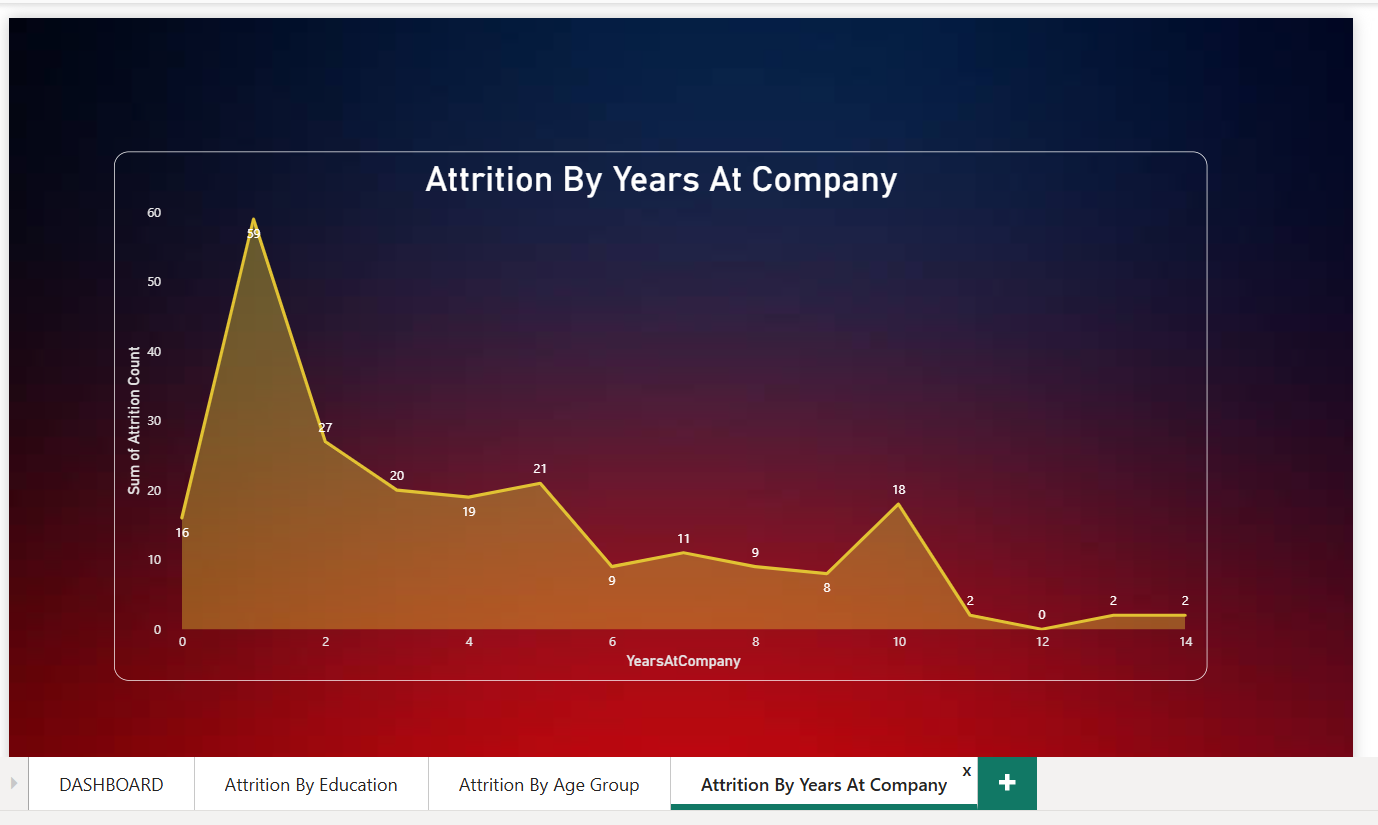

This screenshot's page, from the dashboard's own definition file:
{"tool":"powerbi","page":{"name":"Attrition By Years At Company","canvas":[1280,720],"ordinal":3},"visuals":[{"type":"areaChart","title":"Attrition By Years At Company","fields":{"Category":["HR_Analytics.YearsAtCompany"],"Y":["Sum(HR_Analytics.Attrition Count)"]},"box":[100,127.1,1041.4,504.3],"z":0}]}

Visuals, with their boxes on the page's 1280x720 design canvas (x1, y1, x2, y2). These are canvas units, not pixel positions in the 1378x825 screenshot, which may show the page scaled, cropped or inside an application window:
"Attrition By Years At Company" areaChart: {"x1": 100, "y1": 127, "x2": 1141, "y2": 631}
